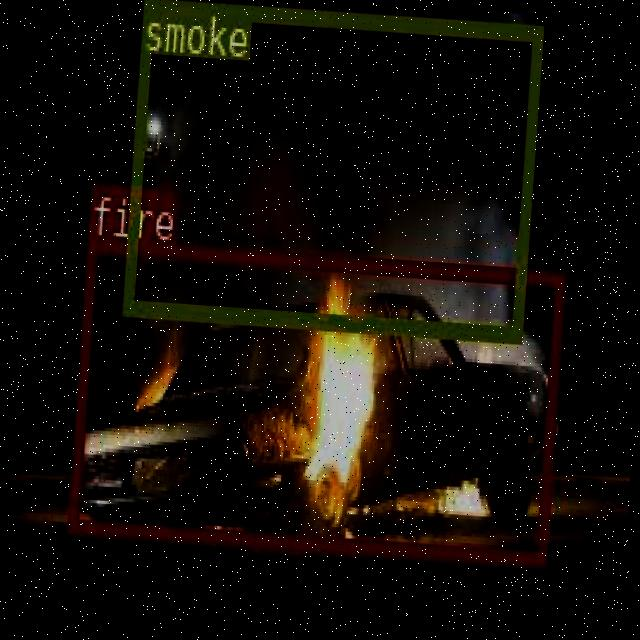fire: (66, 237, 564, 564)
smoke: (121, 0, 541, 339)
